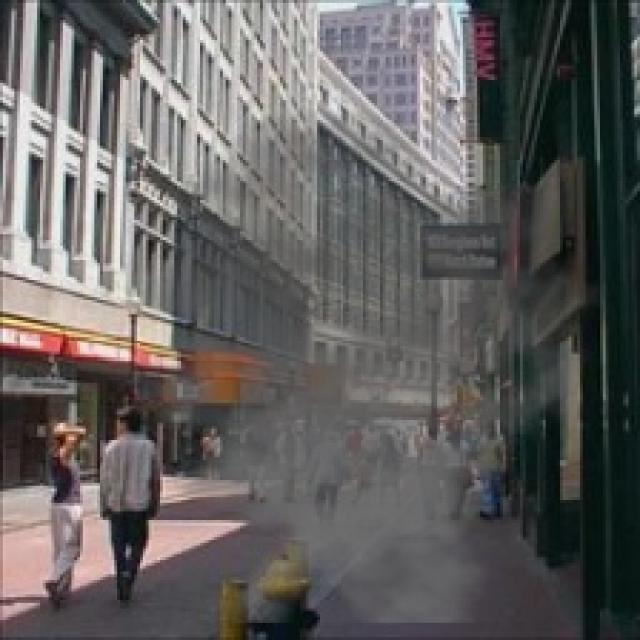Smoke: (86, 106, 608, 623)
